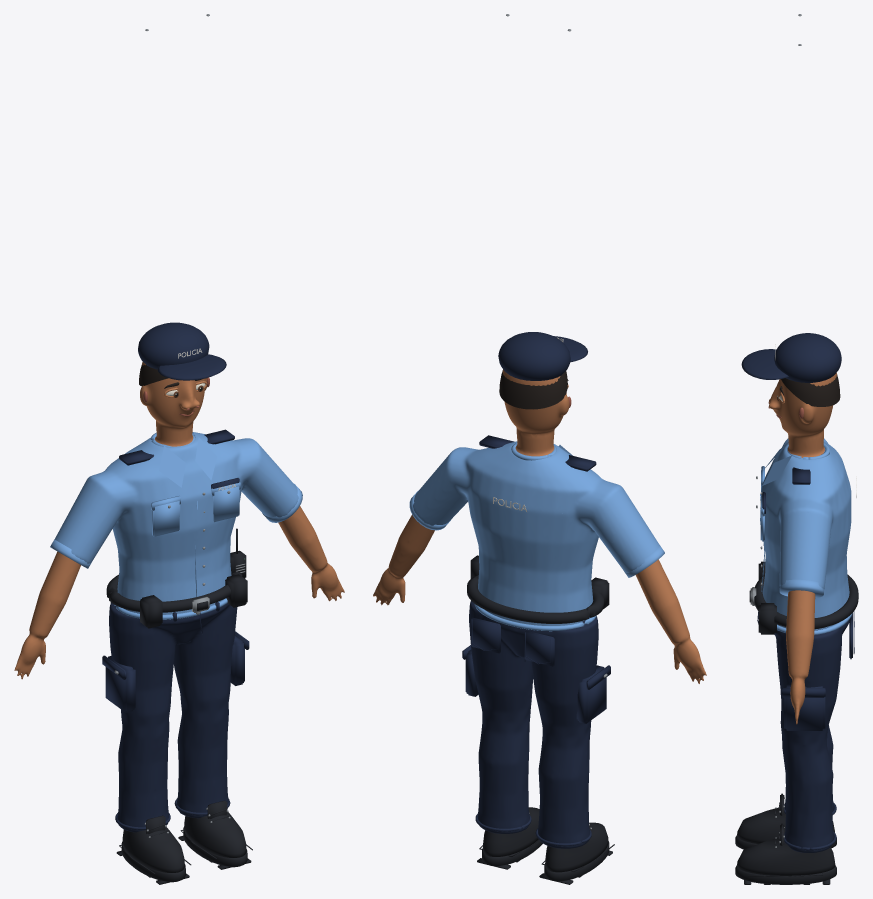
Rendered from NPC2_13_Police_Male.fbx.
The picture shows the model from 3 angles, left to right: view 1: azimuth 30°, elevation 25°; view 2: azimuth 150°, elevation 25°; view 3: azimuth 270°, elevation 25°; orthographic projection.
Parts seen in each view (by area): view 1: Garment_Top_Continuous.002, Trouser_Continuous.002, Skin_13_Police_Male, Cap_Crown, Shoe_Upper.004, Shoe_Upper.005, Duty_Belt, Cargo_Pocket.002, Cap_Visor, Chest_Pocket.002, Chest_Pocket.003, Collar_Lapel.002 (+1 smaller); view 2: Garment_Top_Continuous.002, Trouser_Continuous.002, Skin_13_Police_Male, Cap_Crown, Duty_Belt, Hair_Cap.002, Shoe_Upper.004, Shoe_Upper.005, Cargo_Pocket.002, Back_Pocket.004, Back_Pocket.005, Top_Hem.002; view 3: Garment_Top_Continuous.002, Trouser_Continuous.002, Skin_13_Police_Male, Cap_Crown, Shoe_Upper.005, Cargo_Pocket.003, Shoe_Upper.004, Duty_Belt, Hair_Cap.002, Cap_Visor, Shoe_Sole.005, Duty_Pouch.001 (+4 smaller).
Part boxes in pixels (x1,y1,x2,y2): Garment_Top_Continuous.002: [54, 432, 298, 614]; Trouser_Continuous.002: [109, 602, 237, 832]; Skin_13_Police_Male: [14, 362, 344, 679]; Cap_Crown: [138, 322, 209, 369]; Shoe_Upper.004: [122, 827, 184, 872]; Shoe_Upper.005: [184, 812, 246, 857]; Duty_Belt: [106, 571, 242, 612]; Cargo_Pocket.002: [105, 656, 135, 712]; Cap_Visor: [157, 354, 226, 380]; Chest_Pocket.002: [152, 501, 180, 536]; Chest_Pocket.003: [213, 486, 239, 522]; Collar_Lapel.002: [159, 445, 185, 487]; Garment_Top_Continuous.002: [413, 441, 659, 625]; Trouser_Continuous.002: [469, 601, 598, 848]; Skin_13_Police_Male: [373, 369, 706, 683]; Cap_Crown: [498, 332, 570, 380]; Duty_Belt: [467, 575, 603, 623]; Hair_Cap.002: [499, 370, 567, 409]; Shoe_Upper.004: [545, 822, 608, 872]; Shoe_Upper.005: [483, 807, 539, 856]; Cargo_Pocket.002: [576, 665, 606, 723]; Back_Pocket.004: [524, 630, 554, 666]; Back_Pocket.005: [471, 617, 500, 653]; Top_Hem.002: [474, 604, 596, 631]; Garment_Top_Continuous.002: [760, 438, 851, 630]; Trouser_Continuous.002: [774, 620, 849, 852]; Skin_13_Police_Male: [769, 373, 836, 724]; Cap_Crown: [774, 333, 841, 382]; Shoe_Upper.005: [737, 837, 835, 875]; Cargo_Pocket.003: [784, 684, 825, 730]; Shoe_Upper.004: [737, 807, 834, 843]; Duty_Belt: [754, 574, 858, 629]; Hair_Cap.002: [781, 374, 840, 406]; Cap_Visor: [741, 349, 788, 379]; Shoe_Sole.005: [735, 865, 836, 884]; Duty_Pouch.001: [758, 603, 776, 634].
Bounding box in the file's own units: 1.24 × 2.99 × 0.4003.
